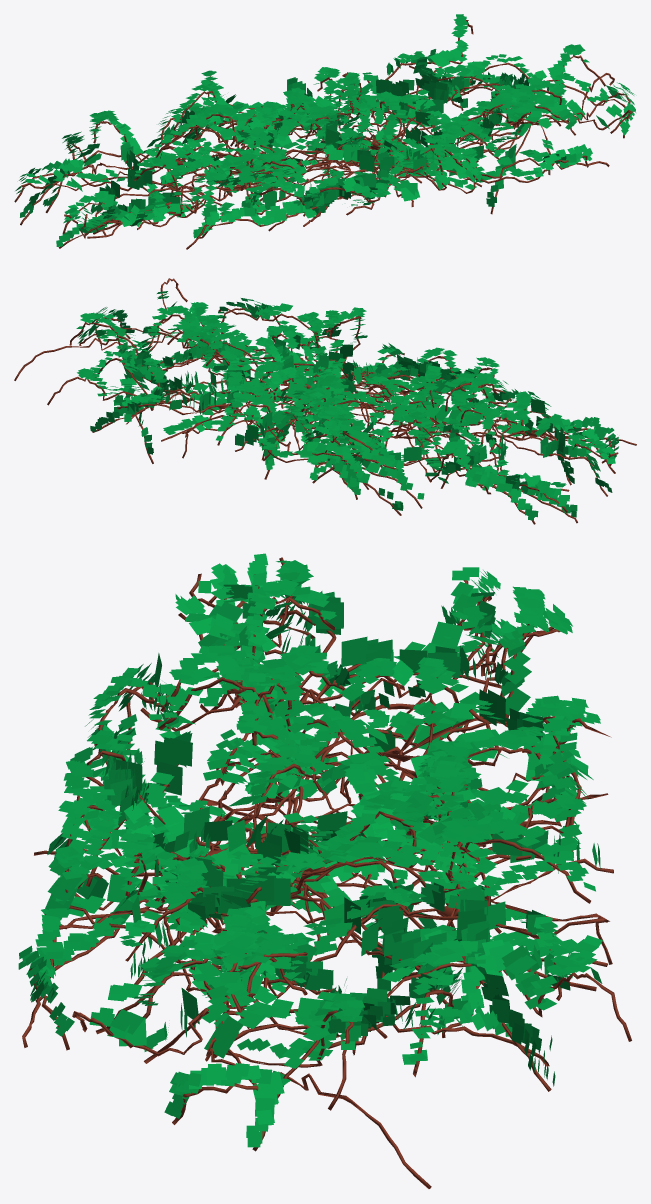
Rendered from Decke_IVY.fbx.
The picture shows the model from 3 angles, top to bottom: view 1: azimuth 30°, elevation 25°; view 2: azimuth 150°, elevation 25°; view 3: azimuth 270°, elevation 25°; orthographic projection. The views are drawn at different scales.
Parts seen in each view (by area): view 1: IvyLeaf, IVY_Curve; view 2: IvyLeaf, IVY_Curve; view 3: IvyLeaf, IVY_Curve.
Boxes of the visible parts, x1,y1,x2,y2 form: IvyLeaf: (15,14,635,246); IVY_Curve: (14,20,632,249); IvyLeaf: (76,291,618,520); IVY_Curve: (14,278,636,524); IvyLeaf: (18,553,602,1147); IVY_Curve: (22,557,631,1188).
Size of the model in its own units: 425 by 78.4 by 199.
